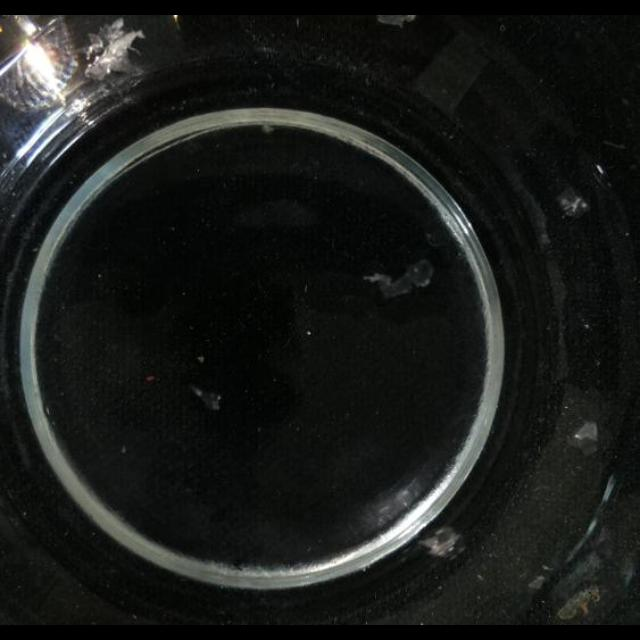Fibre: (84, 20, 144, 80), (365, 258, 435, 300), (418, 528, 462, 558), (558, 186, 590, 218), (571, 422, 601, 454), (188, 384, 222, 410), (528, 576, 546, 590), (260, 124, 274, 134)
microbeads: (304, 284, 308, 294)
